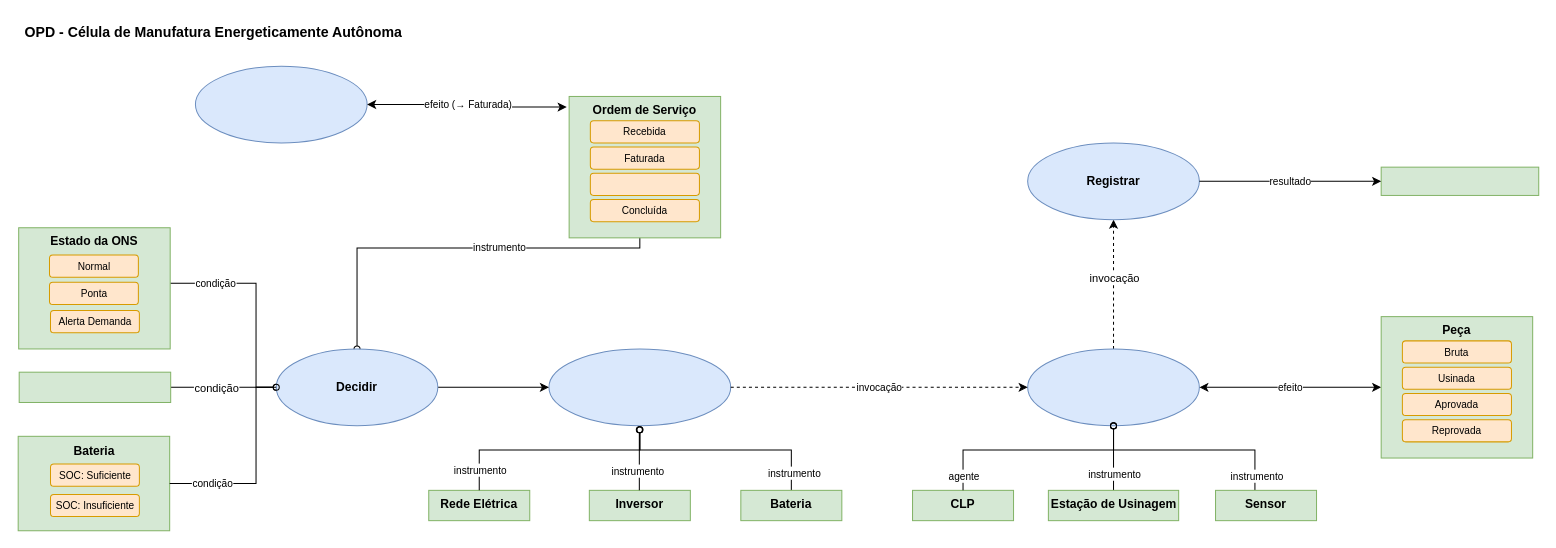
This 1556x548 diagram has some shape labels left out. Here are the shapes that lost their labels. From the top down, the centre of each, then its label:
At (x=280, y=104): "Faturar".
At (x=644, y=183): "Em produção".
At (x=1459, y=180): "Registro de Produção".
At (x=94, y=386): "Tarifa".
At (x=639, y=387): "Consumir Energia".
At (x=1113, y=387): "Produzir".
